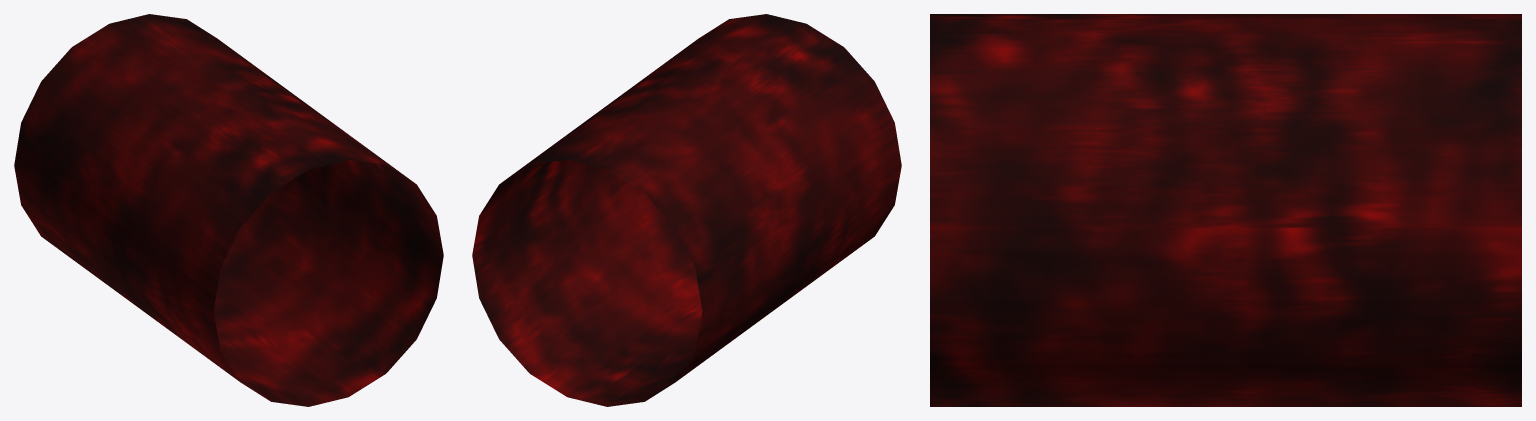
Rendered from aeratedWater.FBX.
3 views of the same model, side by side, from view 1: azimuth 30°, elevation 25°; view 2: azimuth 150°, elevation 25°; view 3: azimuth 270°, elevation 25° (orthographic). The views are drawn at different scales.
Parts seen in each view (by area): view 1: Cylinder001; view 2: Cylinder001; view 3: Cylinder001.
Part boxes in pixels (x1,y1,x2,y2): Cylinder001: (14, 14, 443, 406); Cylinder001: (472, 14, 901, 406); Cylinder001: (930, 14, 1521, 406).
Size of the model in its own units: 20 by 19.7 by 30.
